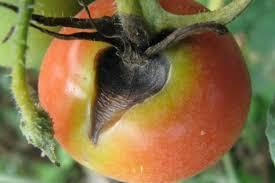tomato early blight: (39, 1, 250, 183)
